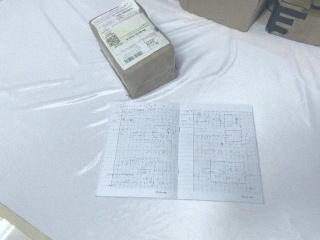box: (87, 2, 178, 99), (178, 1, 271, 32), (266, 1, 320, 48)
